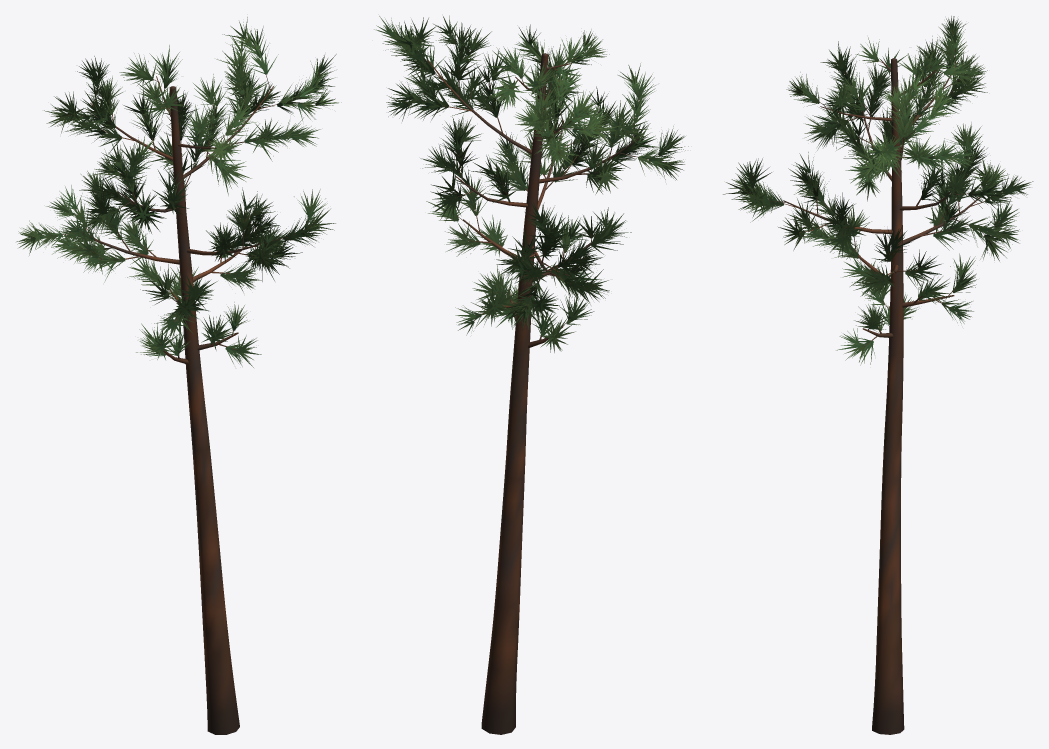
Rendered from pine-c.lod0.glb.
The picture shows the model from 3 angles, left to right: view 1: azimuth 30°, elevation 25°; view 2: azimuth 150°, elevation 25°; view 3: azimuth 270°, elevation 25°; orthographic projection. The views are drawn at different scales.
Size of the model in its own units: 6.24 by 14.65 by 6.13.
